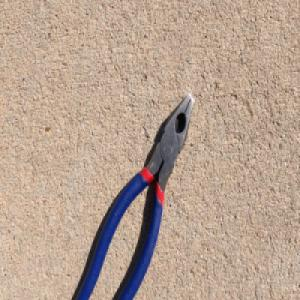Pliers: (73, 90, 195, 300)
